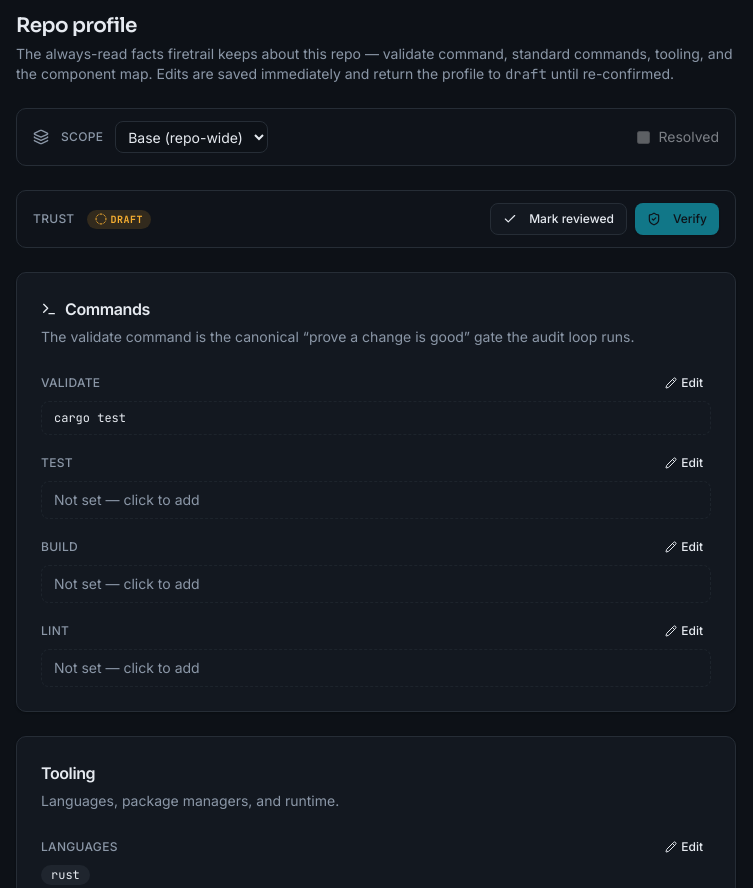
Test case: <ProfilePanel /> › switches scope and refetches ?scope=, with a per-scope trust badge
Expected: the button with test id "profile-value-validateCommand" is shown, [41,401,711,435]
# The switcher offers Base + the scope from GET /api/scope.
Select "apps/checkout" in the dropdown with test id "profile-scope-switcher": point(192, 137) [115,121,268,153]
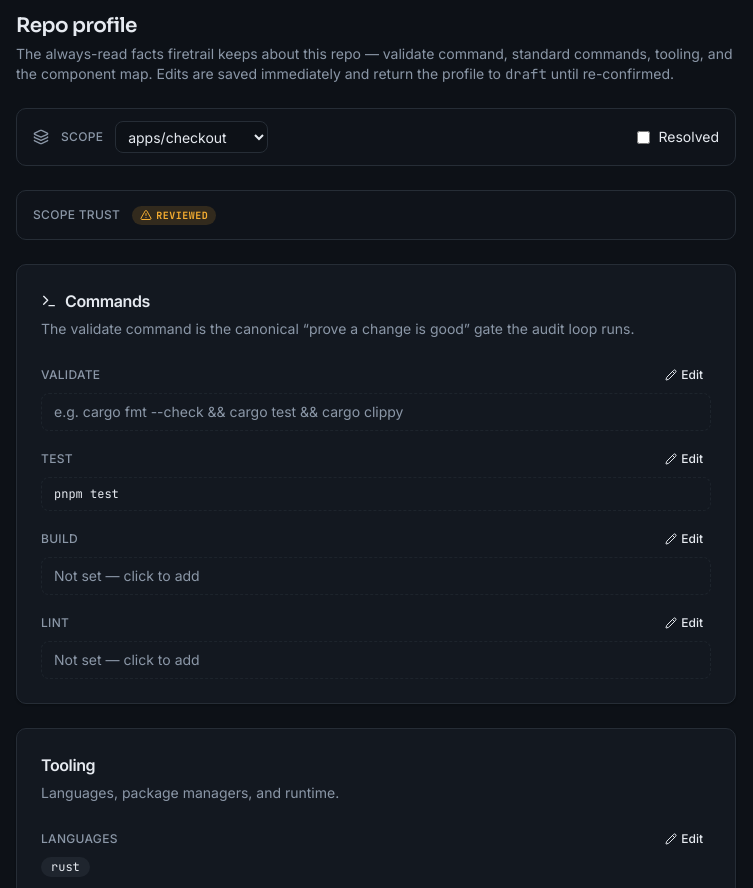
Expected: the element with test id "profile-scope-trust" reads "reviewed", [156,208,208,222]
Expected: the button with test id "profile-value-testCommand" reads "pnpm test", [41,477,711,511]
